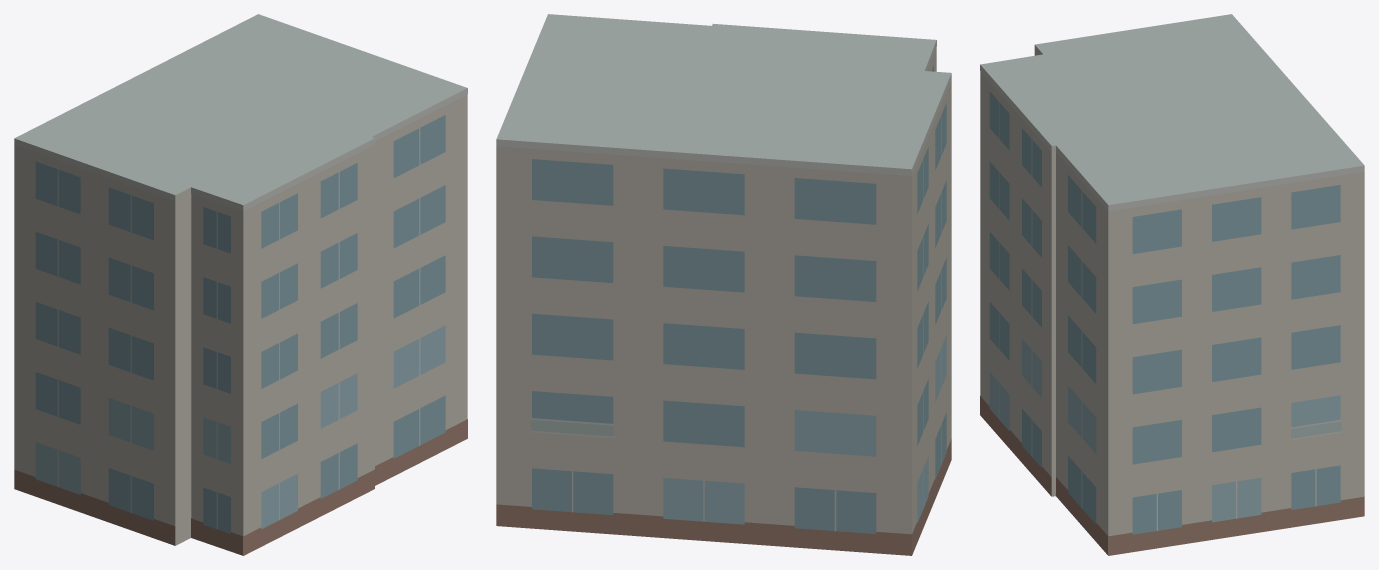
File: survey-upis-32843120.glb
3 views of the same model, side by side, from view 1: azimuth 30°, elevation 25°; view 2: azimuth 150°, elevation 25°; view 3: azimuth 270°, elevation 25° (orthographic). The views are drawn at different scales.
Visible parts, largest first — view 1: survey-upis-32843120.tmp; view 2: survey-upis-32843120.tmp; view 3: survey-upis-32843120.tmp.
Boxes of the visible parts, x1,y1,x2,y2 form: survey-upis-32843120.tmp: (14, 14, 467, 555); survey-upis-32843120.tmp: (496, 14, 951, 555); survey-upis-32843120.tmp: (980, 14, 1364, 555).
Size of the model in its own units: 16.14 by 13.8 by 13.72.
